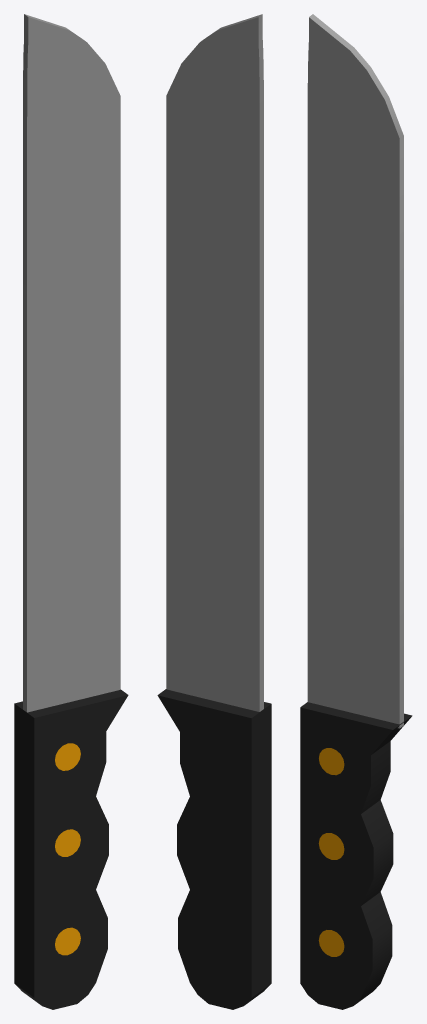
File: Facao.fbx
3 views of the same model, side by side, from view 1: azimuth 30°, elevation 25°; view 2: azimuth 150°, elevation 25°; view 3: azimuth 330°, elevation 25° (orthographic).
Visible parts, largest first — view 1: Facao; view 2: Facao; view 3: Facao.
Boxes of the visible parts, x1=… form: Facao: x1=14, y1=14, x2=128, y2=1009; Facao: x1=157, y1=14, x2=271, y2=1009; Facao: x1=300, y1=14, x2=412, y2=1009.
Bounding box in the file's own units: 2.66 × 26.77 × 1.02.
1 material, 1 textured.
